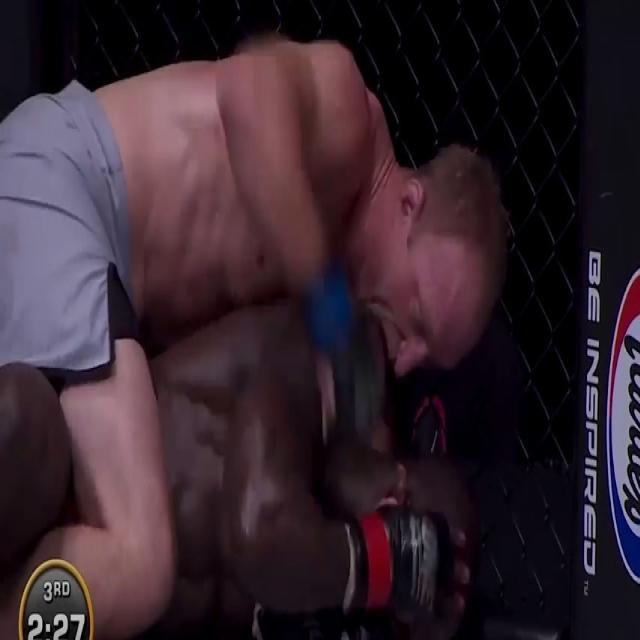fight: (2, 0, 525, 639)
